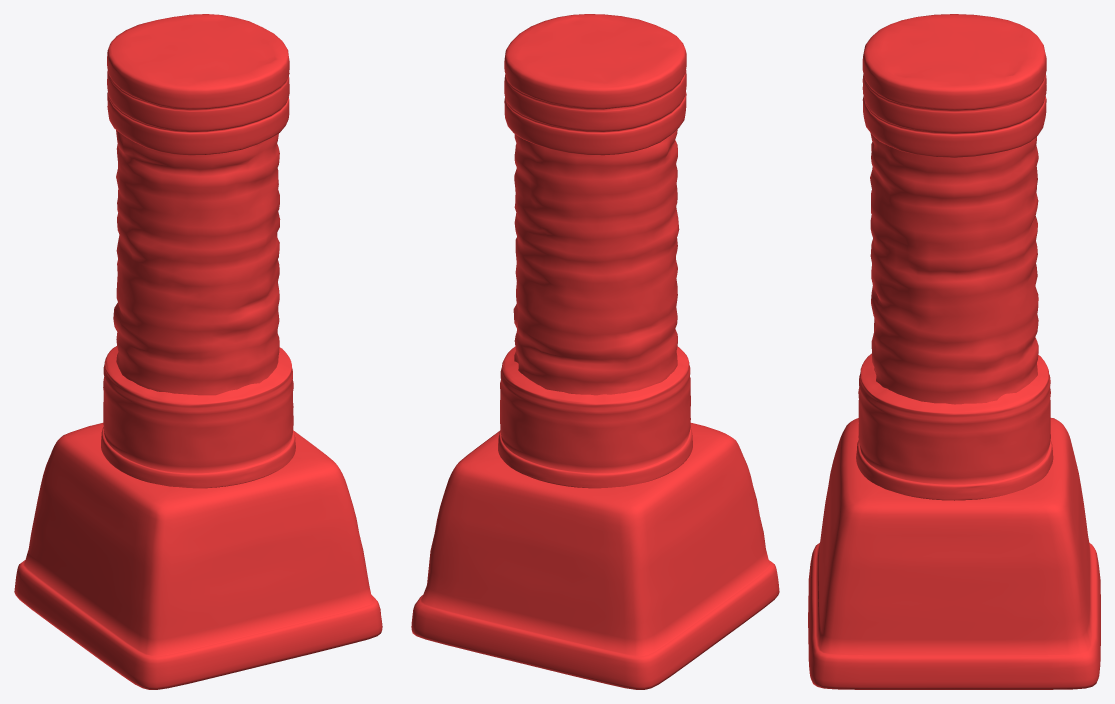
File: pillar_short.FBX
The picture shows the model from 3 angles, left to right: view 1: azimuth 30°, elevation 25°; view 2: azimuth 150°, elevation 25°; view 3: azimuth 270°, elevation 25°; orthographic projection. The views are drawn at different scales.
Parts seen in each view (by area): view 1: pillar_short; view 2: pillar_short; view 3: pillar_short.
Part boxes in pixels (<box>): pillar_short: <box>14,14,382,689</box>; pillar_short: <box>411,14,779,689</box>; pillar_short: <box>808,14,1100,689</box>.
Size of the model in its own units: 0.5835 by 1.28 by 0.5835.
